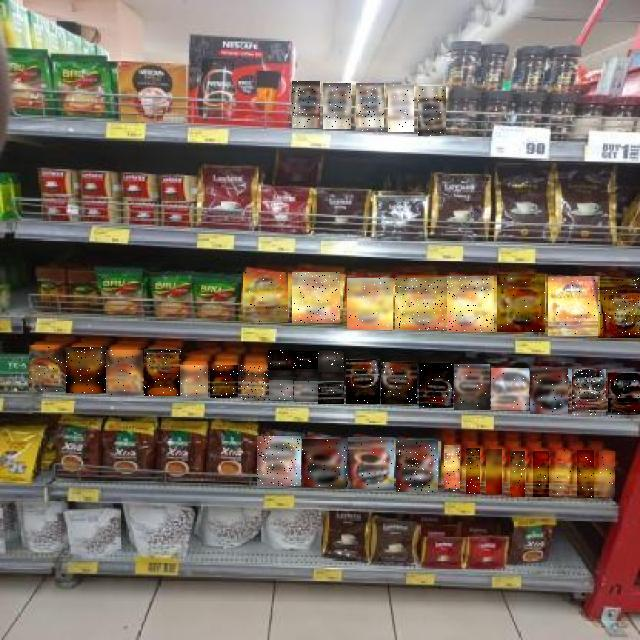Coffee: (549, 276, 601, 336), (497, 274, 545, 332), (395, 278, 447, 330), (448, 276, 496, 332), (598, 279, 640, 339), (292, 272, 340, 323), (347, 278, 393, 330), (349, 437, 395, 489), (243, 272, 288, 322), (257, 437, 301, 487), (396, 440, 438, 492), (302, 439, 347, 487), (66, 347, 106, 393), (530, 368, 568, 414), (144, 349, 181, 396), (106, 350, 143, 395), (30, 346, 66, 392), (455, 364, 491, 410), (491, 368, 529, 410), (572, 370, 606, 416), (346, 359, 380, 404), (419, 363, 453, 408), (381, 362, 417, 404), (608, 374, 640, 418), (419, 86, 447, 136), (356, 84, 384, 132), (292, 81, 320, 128), (323, 83, 351, 129), (389, 85, 415, 132), (241, 365, 269, 400), (210, 365, 238, 398), (180, 365, 208, 398), (577, 451, 594, 499), (445, 446, 461, 492), (555, 450, 571, 496), (533, 451, 549, 497), (599, 451, 615, 497), (487, 449, 503, 494), (510, 451, 525, 497), (466, 448, 480, 494), (319, 381, 345, 404), (318, 351, 344, 372), (269, 350, 295, 370), (294, 381, 318, 402), (294, 352, 318, 372), (269, 380, 293, 400)
